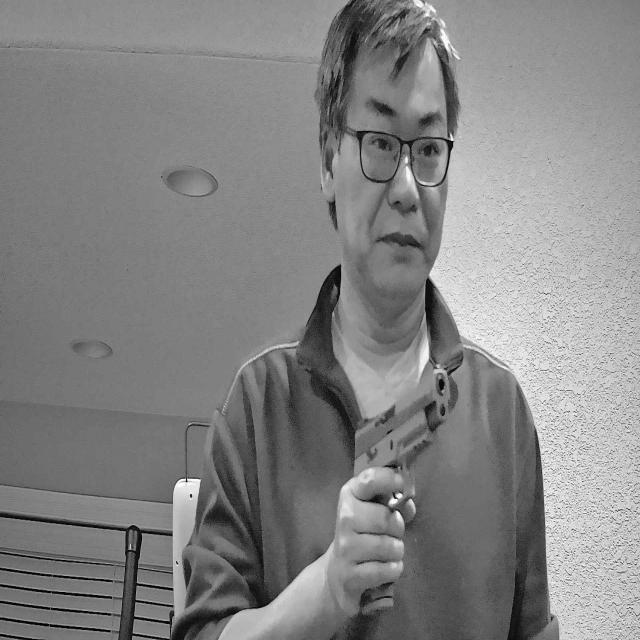Hand-Gun: (261, 299, 499, 640)
